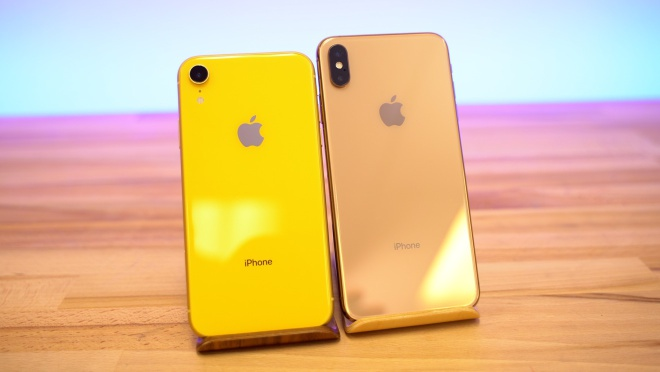apple: (369, 89, 420, 136), (233, 110, 280, 154)
